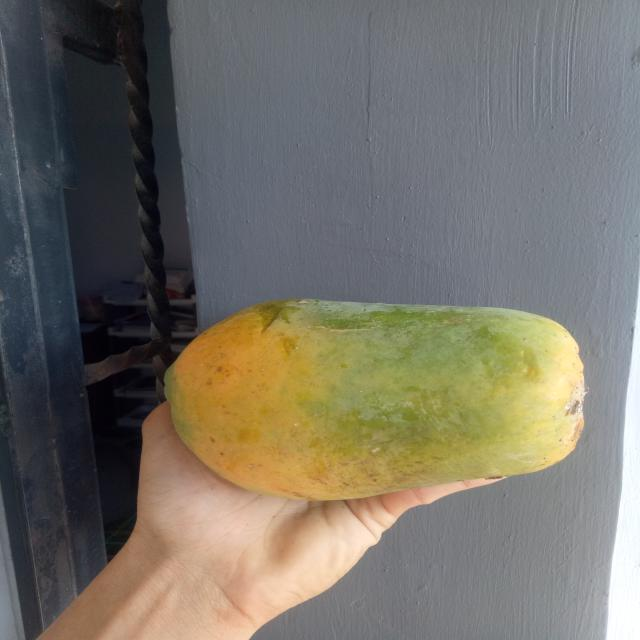Pepaya rippen: (154, 299, 595, 517)
